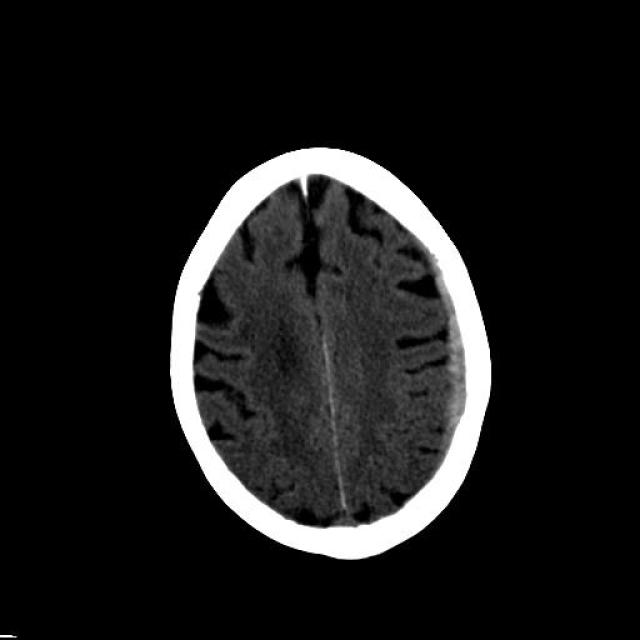Subdural: (415, 244, 484, 501)
